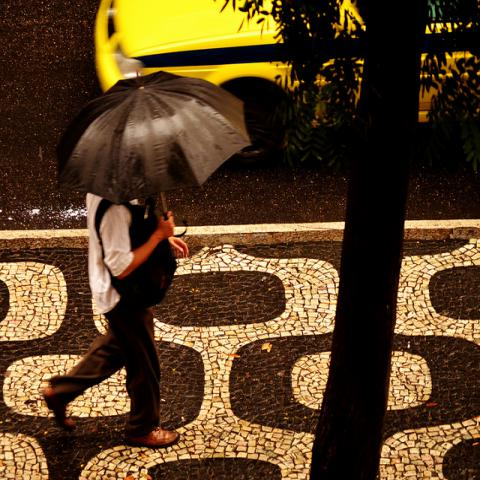car: (87, 0, 480, 157)
